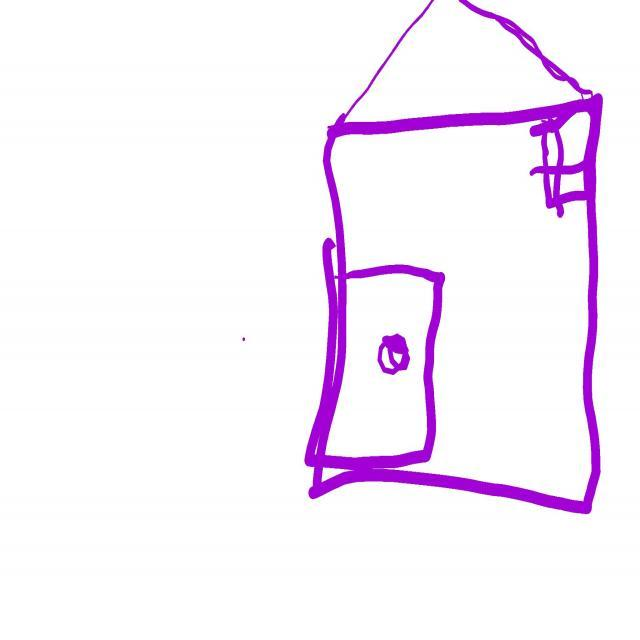door: (313, 261, 448, 472)
house: (306, 0, 604, 514)
wall: (315, 94, 603, 513)
window: (534, 101, 599, 207)
